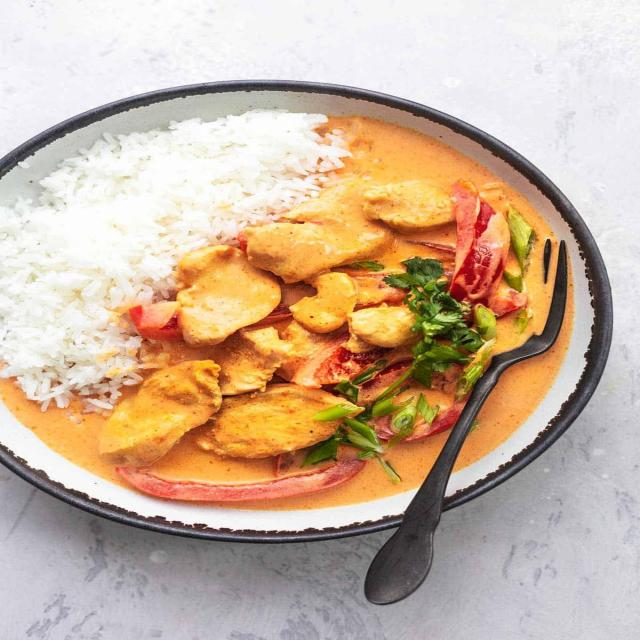chicken: (168, 222, 515, 499)
rice: (29, 129, 160, 387)
